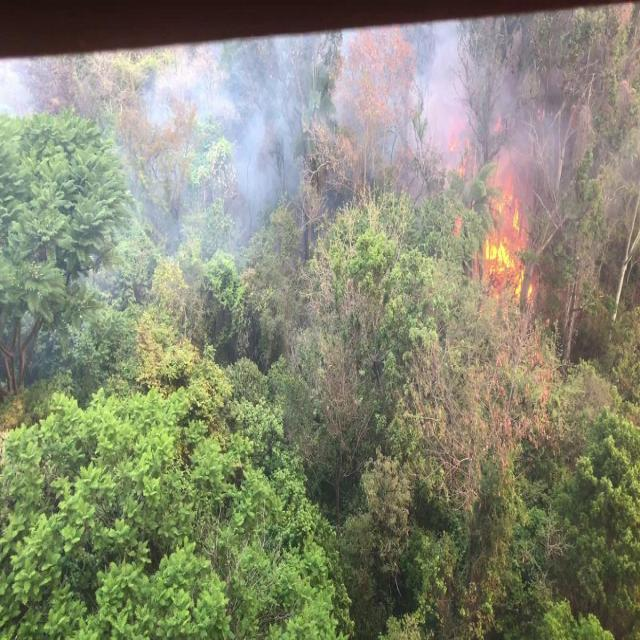Fire: (470, 174, 534, 300)
